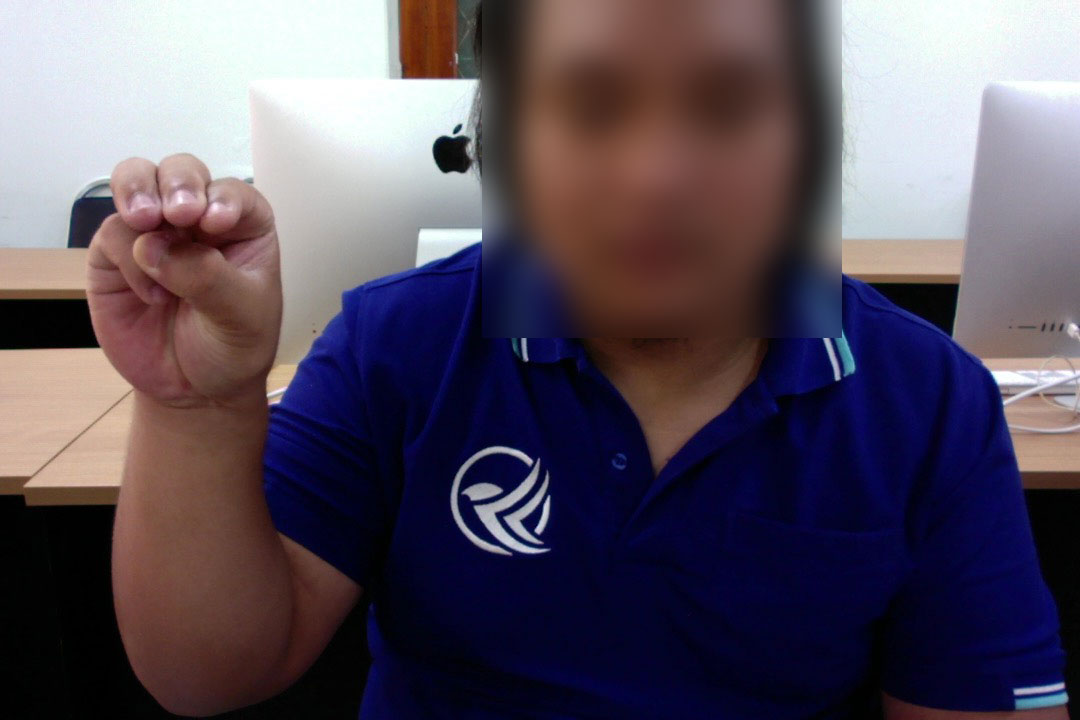mor: (75, 142, 295, 425)
